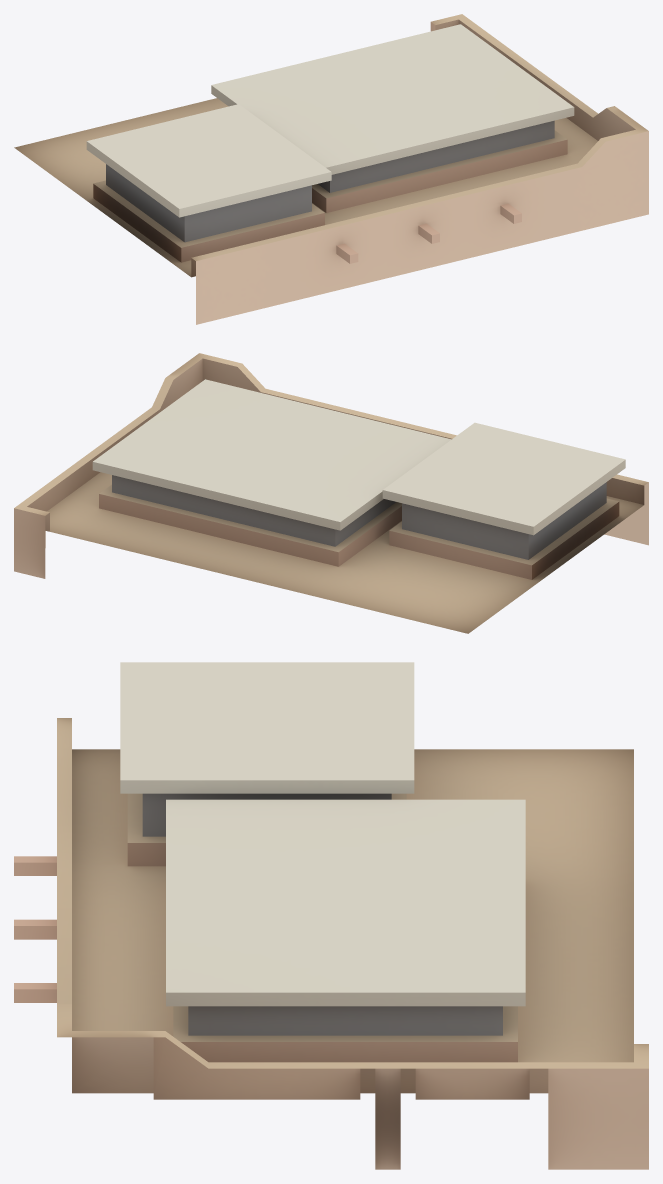
The picture shows the model from 3 angles, top to bottom: view 1: azimuth 30°, elevation 25°; view 2: azimuth 150°, elevation 25°; view 3: azimuth 270°, elevation 25°; orthographic projection. The views are drawn at different scales.
Visible parts, largest first — view 1: atturaifworldheritagesite70030076209992629; view 2: atturaifworldheritagesite70030076209992629; view 3: atturaifworldheritagesite70030076209992629.
Part boxes in pixels (x1=…): atturaifworldheritagesite70030076209992629: x1=14, y1=14, x2=648, y2=324; atturaifworldheritagesite70030076209992629: x1=14, y1=353, x2=648, y2=633; atturaifworldheritagesite70030076209992629: x1=14, y1=662, x2=648, y2=1169.
Size of the model in its own units: 19.35 by 4.1 by 14.82.
Materials: 1 (1 with a texture image).
